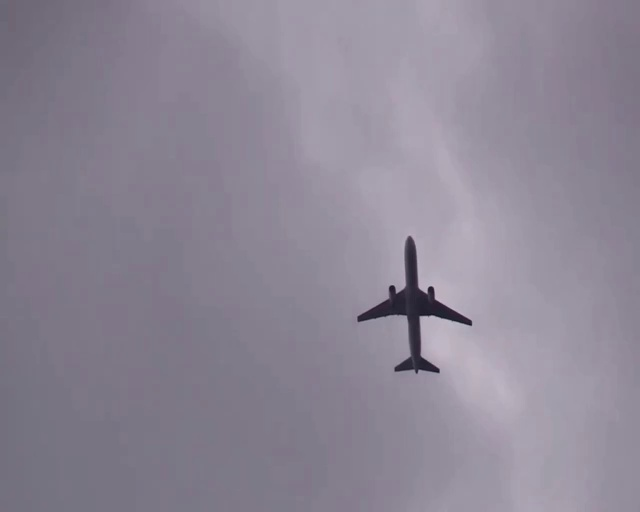AIRPLANE: (358, 234, 472, 374)
